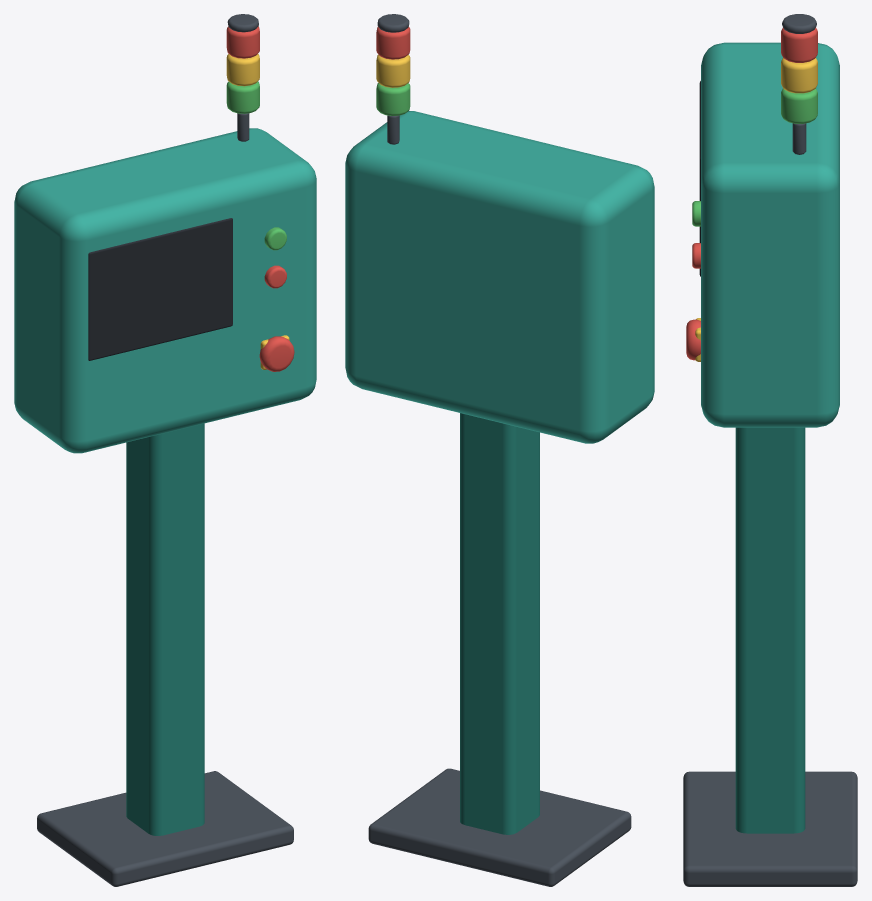
Rendered from clp_padrao.glb.
3 renders of one model, left to right at view 1: azimuth 30°, elevation 25°; view 2: azimuth 150°, elevation 25°; view 3: azimuth 270°, elevation 25°, orthographic. The views are drawn at different scales.
Visible parts, largest first — view 1: gabinete, coluna, moldura_tela, base, emergencia, luz_verde, luz_ambar, luz_vermelha; view 2: gabinete, coluna, base, luz_verde, luz_ambar, luz_vermelha; view 3: gabinete, coluna, base, luz_ambar, luz_verde, luz_vermelha, tampa_torre, emergencia, haste_torre.
Part boxes in pixels (<box>): gabinete: <box>14,128,316,453</box>; coluna: <box>126,423,204,835</box>; moldura_tela: <box>88,218,232,360</box>; base: <box>37,771,293,886</box>; emergencia: <box>259,336,294,371</box>; luz_verde: <box>226,81,259,113</box>; luz_ambar: <box>226,54,259,86</box>; luz_vermelha: <box>226,26,259,58</box>; gabinete: <box>345,111,654,443</box>; coluna: <box>460,413,539,834</box>; base: <box>368,768,631,886</box>; luz_verde: <box>376,83,410,115</box>; luz_ambar: <box>376,54,410,87</box>; luz_vermelha: <box>376,27,410,59</box>; gabinete: <box>701,42,839,427</box>; coluna: <box>735,427,805,833</box>; base: <box>683,771,857,886</box>; luz_ambar: <box>781,58,817,93</box>; luz_verde: <box>781,88,817,123</box>; luz_vermelha: <box>781,27,817,62</box>; tampa_torre: <box>782,14,816,33</box>; emergencia: <box>686,319,700,360</box>; haste_torre: <box>792,123,806,154</box>.
Size of the model in its own units: 0.56 by 1.65 by 0.3.
